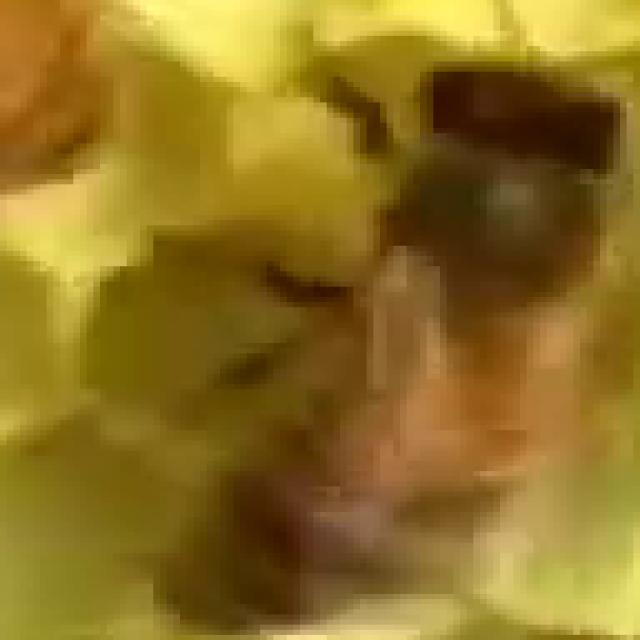honeybee: (164, 66, 620, 614)
